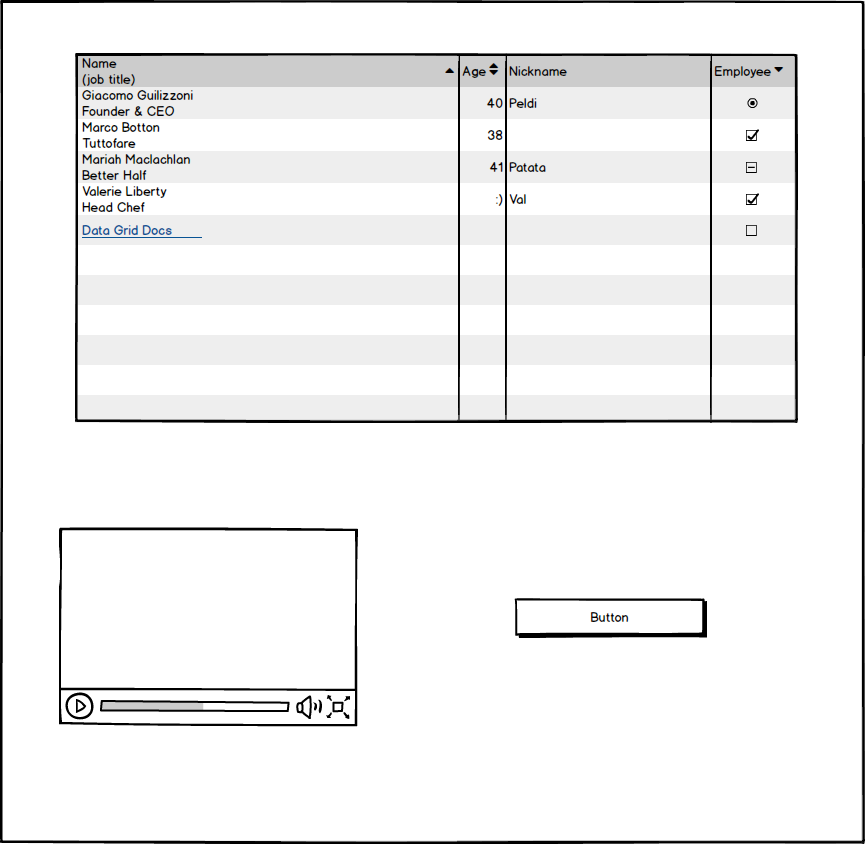button: (508, 592, 717, 643)
table: (64, 41, 805, 432)
video: (50, 521, 367, 733)
